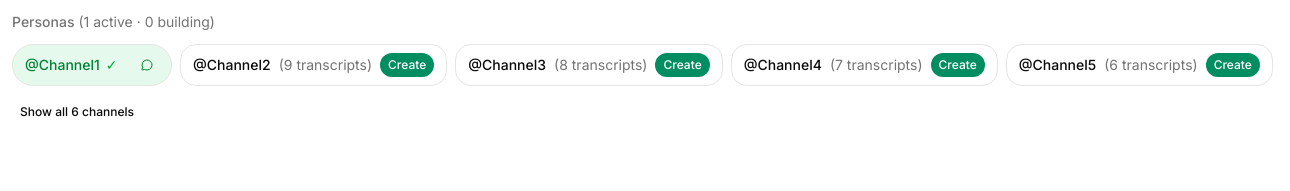
PersonaStatus › collapses back to 5 channels when "Show less" is clicked
Click the button "Show all 6 channels" at (77,112), box [12,100,142,124]
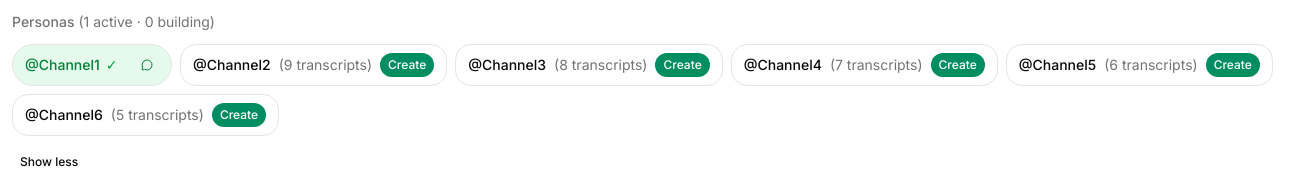
Now the button "Show less" is shown
Now the text "@Channel6" is shown, box [25,105,103,125]
Click the button "Show less" at (49,162), box [12,150,86,174]
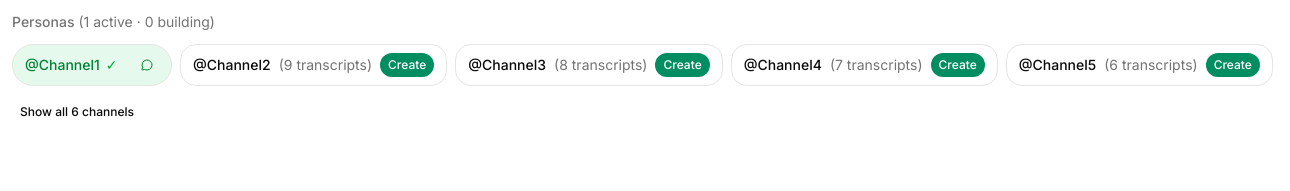
Now the text "@Channel6" is gone
Now the button "Show all 6 channels" is shown, box [12,100,142,124]
